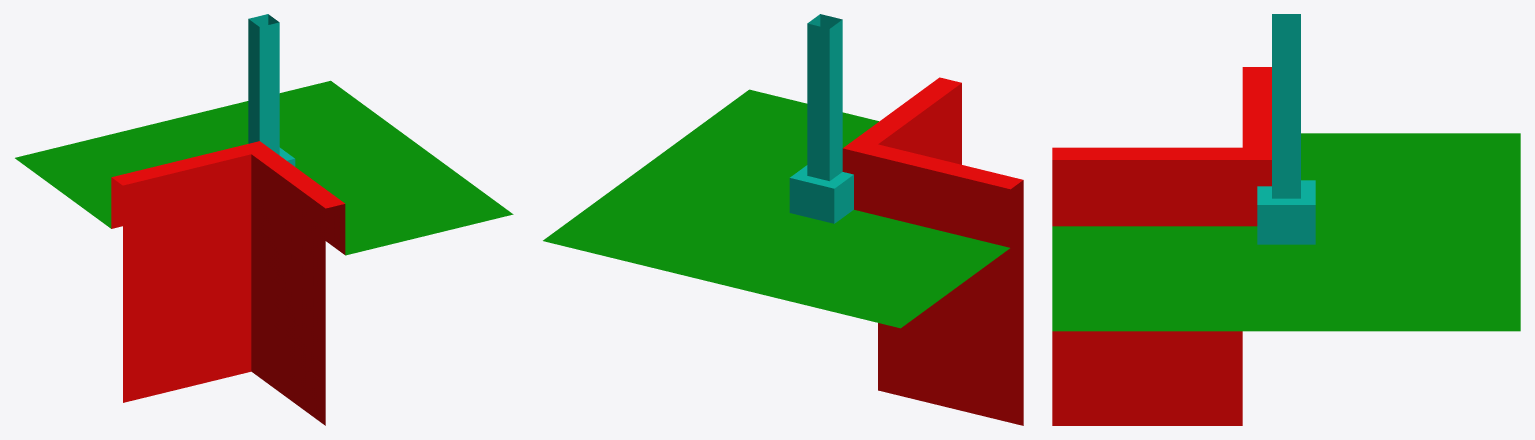
File: None_W_W_E_E_W_E_E_E_BigStrut.fbx
3 views of the same model, side by side, from view 1: azimuth 30°, elevation 25°; view 2: azimuth 150°, elevation 25°; view 3: azimuth 270°, elevation 25° (orthographic). The views are drawn at different scales.
Visible parts, largest first — view 1: None_W_W_E_E_W_E_E_E_BigStrut; view 2: None_W_W_E_E_W_E_E_E_BigStrut; view 3: None_W_W_E_E_W_E_E_E_BigStrut.
Part boxes in pixels (x1,y1,x2,y2): None_W_W_E_E_W_E_E_E_BigStrut: (15,14,513,425); None_W_W_E_E_W_E_E_E_BigStrut: (543,14,1023,425); None_W_W_E_E_W_E_E_E_BigStrut: (1052,14,1520,425).
Size of the model in its own units: 100 by 100 by 100.
